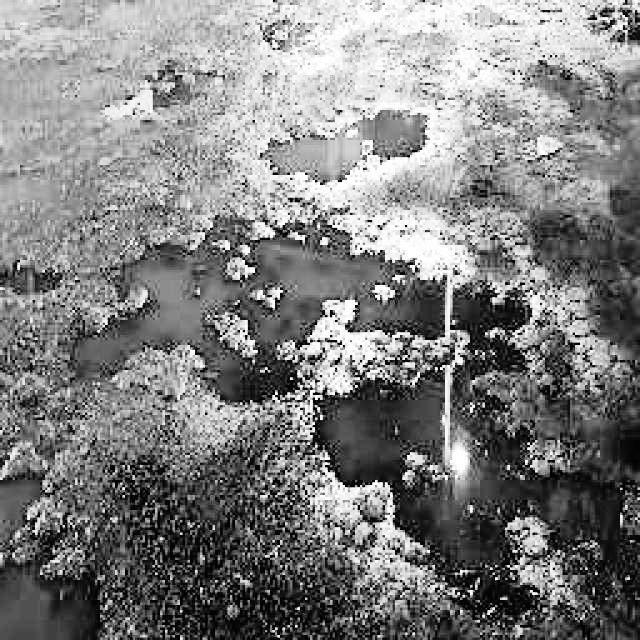Pothole: (62, 208, 640, 621)
